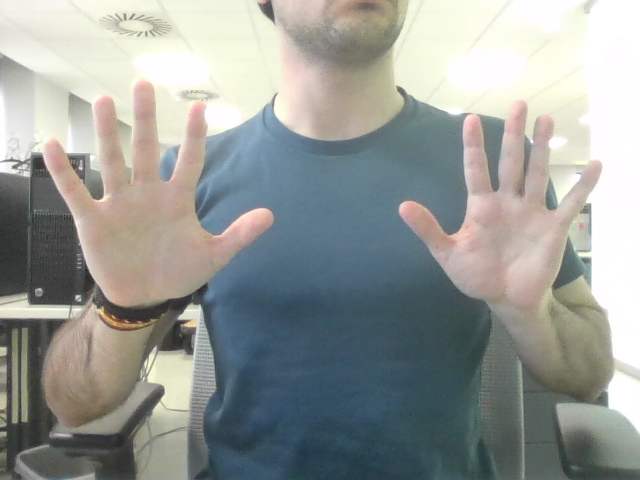Manos Arriba: (76, 100, 567, 275)
